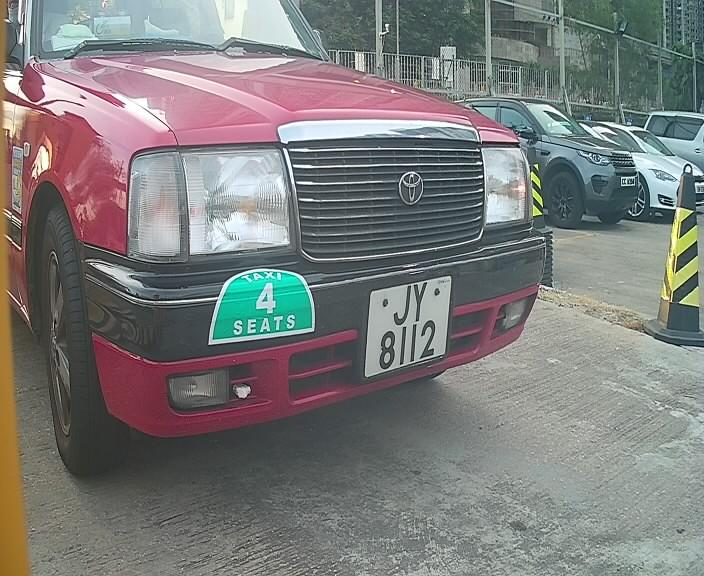License Plate: (353, 268, 463, 379)
